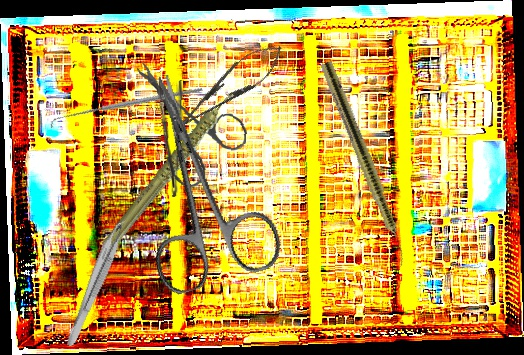Dressing Forceps: (152, 78, 185, 198)
Handpiece: (76, 89, 268, 253), (317, 60, 414, 268)
Hook Surgical: (49, 44, 204, 171)
Iris Scissors: (105, 57, 289, 299), (125, 61, 253, 192)
Needle Holder: (164, 33, 291, 144)
Tissue Forceps: (64, 215, 131, 351)
